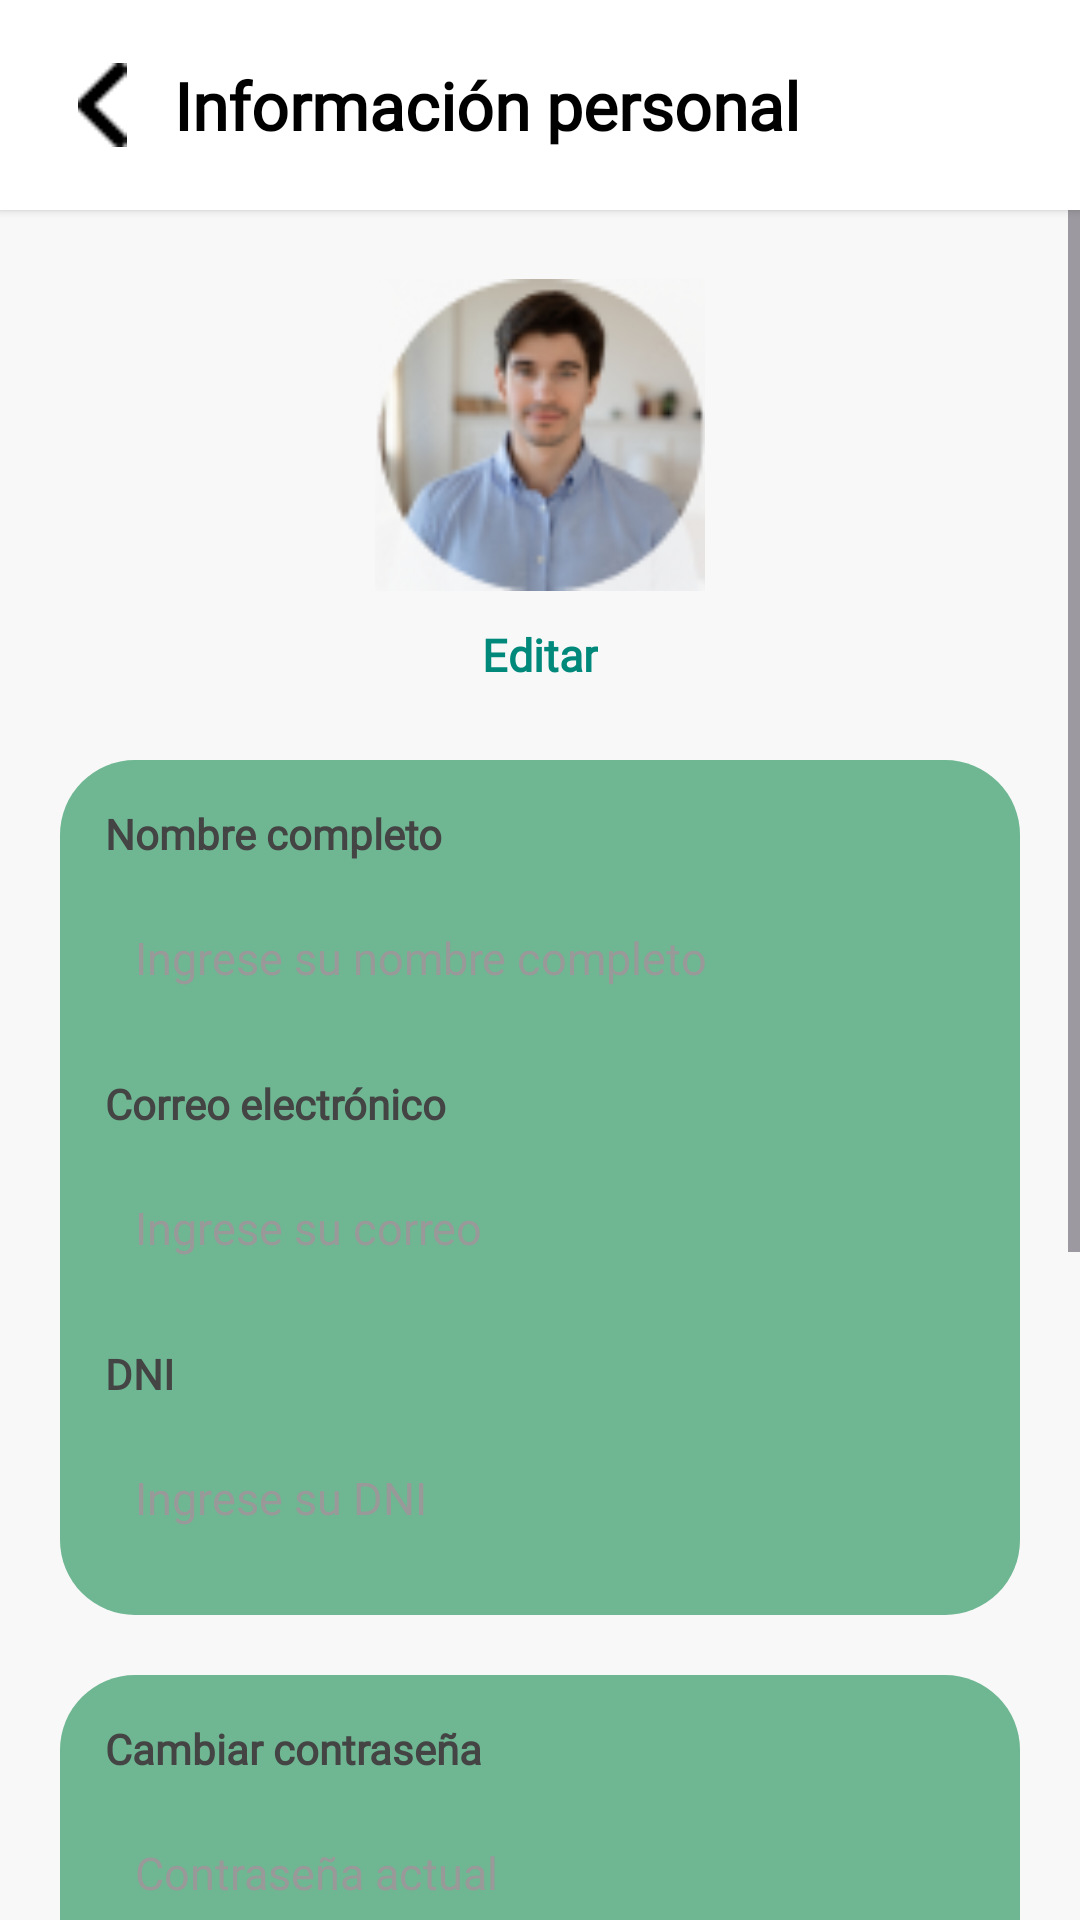

Where to tap for icons on this 1080x1920 app screen, as (x,y):
back: (102,105)
user: (541,435)
